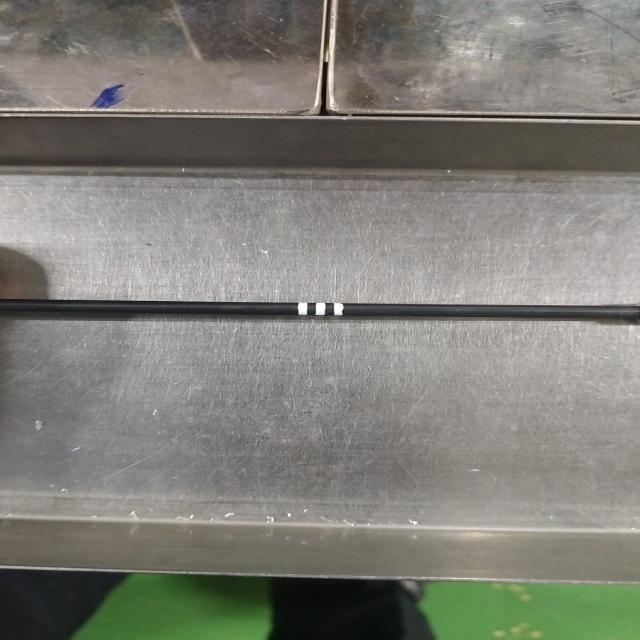white: (296, 301, 346, 318)
